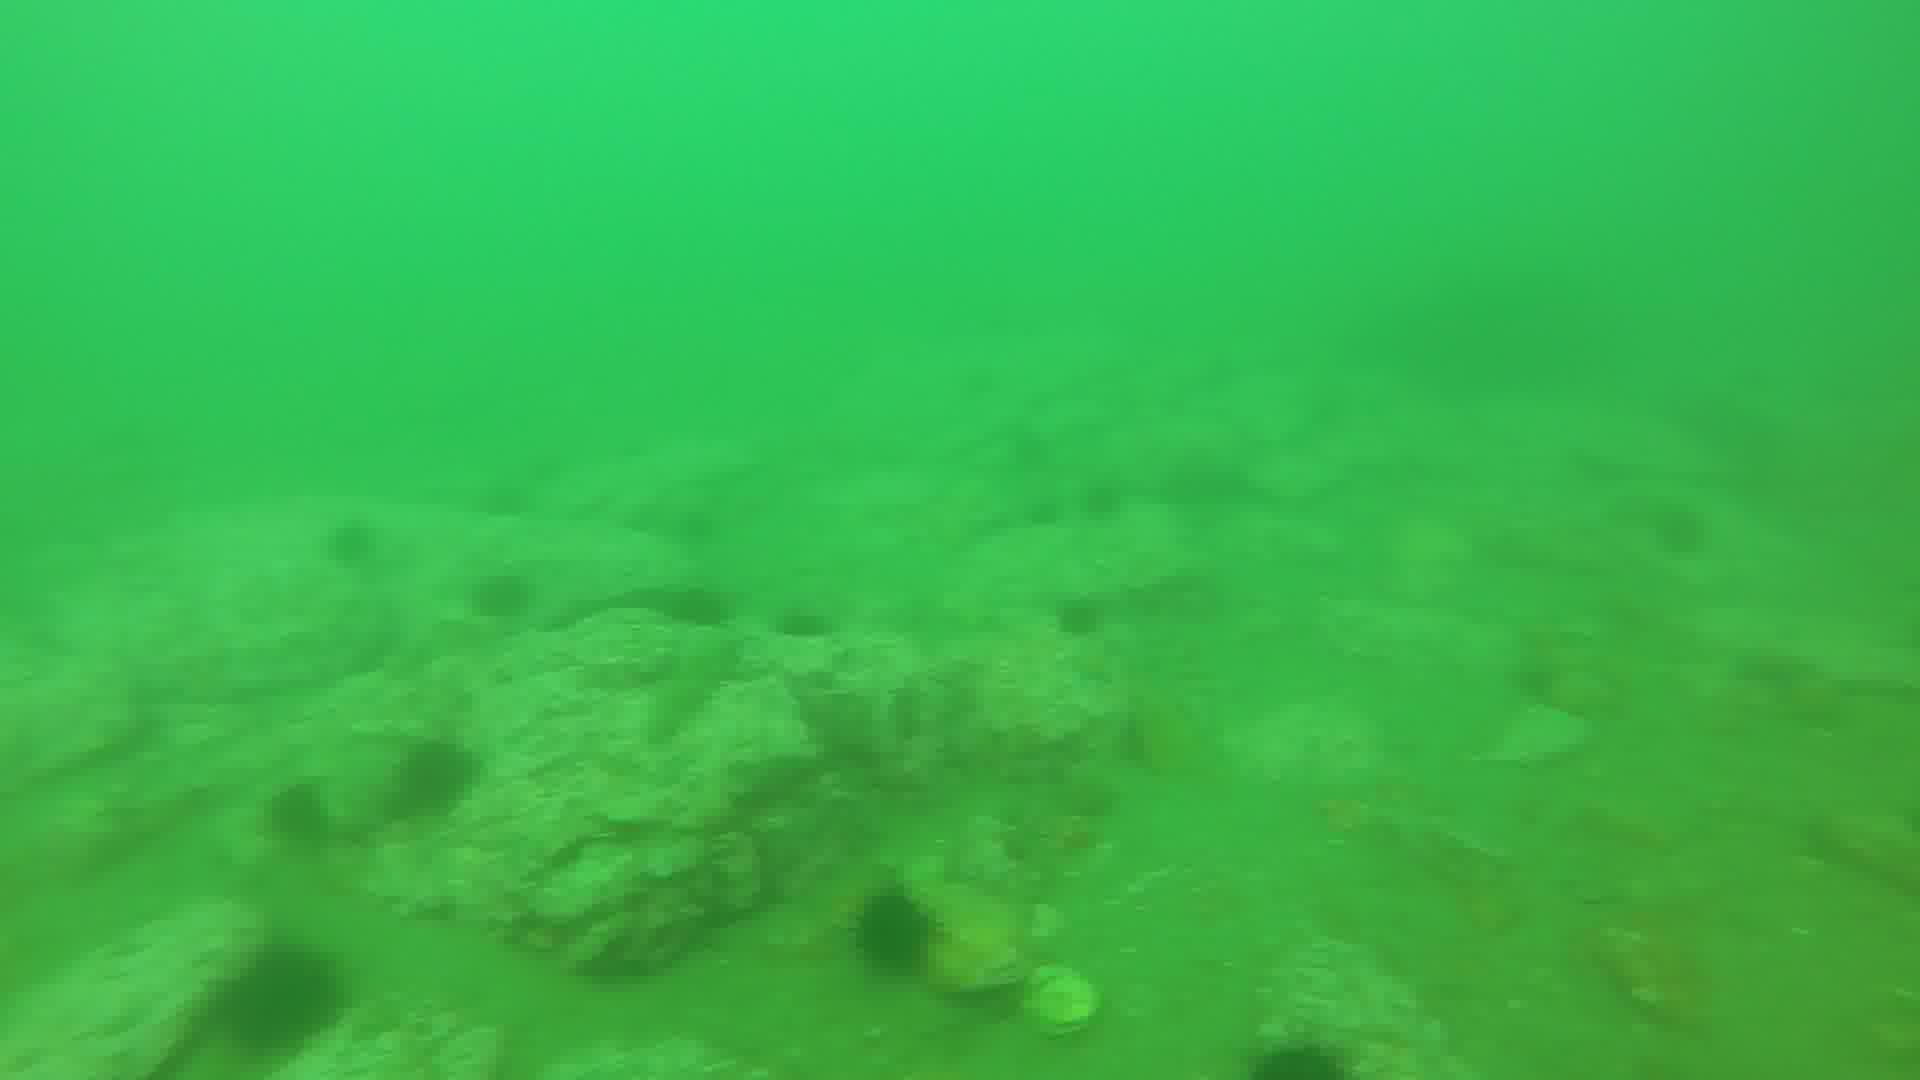echinus: (218, 944, 340, 1036), (862, 885, 940, 981), (400, 741, 477, 819), (1244, 1036, 1356, 1080), (262, 781, 338, 837), (1652, 506, 1710, 555), (781, 600, 837, 644), (1062, 596, 1110, 645), (328, 520, 382, 563), (481, 571, 525, 608)
